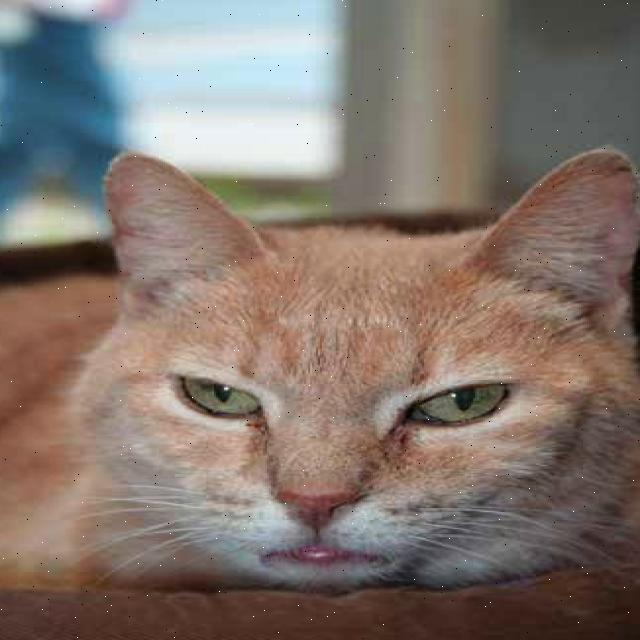Cat: (45, 154, 640, 609)
